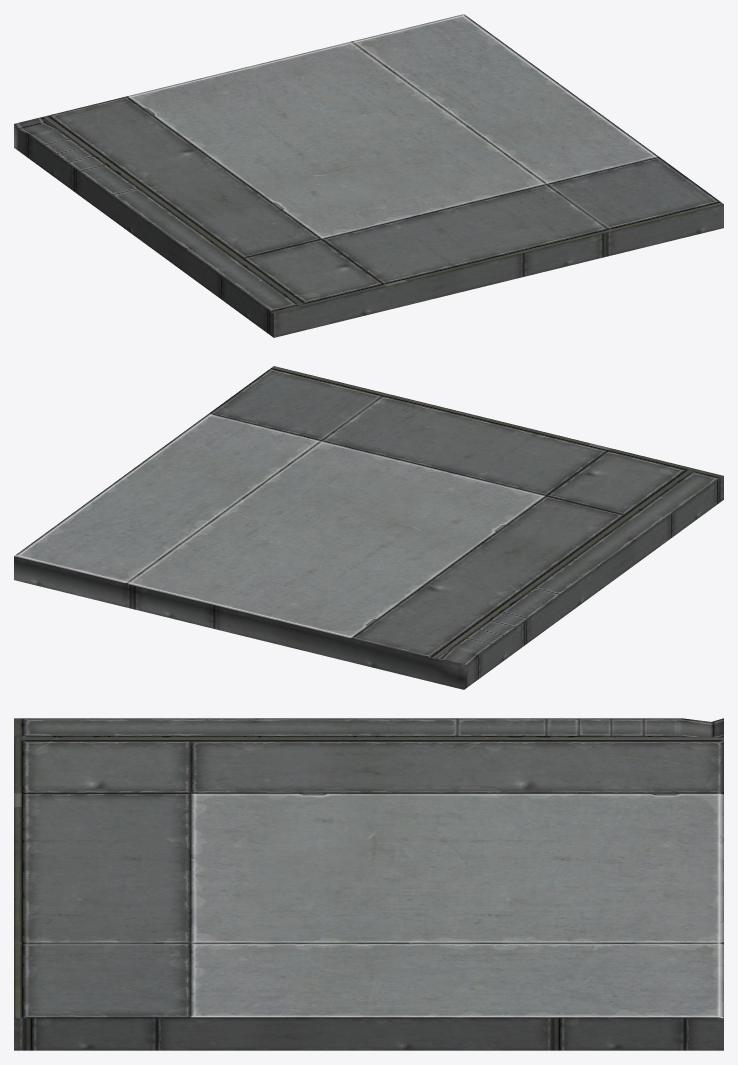
The model's file is Neon_Floor_Lrg_8x4_01.FBX.
3 views of the same model, one above another, from view 1: azimuth 30°, elevation 25°; view 2: azimuth 150°, elevation 25°; view 3: azimuth 270°, elevation 25° (orthographic). The views are drawn at different scales.
Parts seen in each view (by area): view 1: Neon_Floor_Lrg_8x4_02; view 2: Neon_Floor_Lrg_8x4_02; view 3: Neon_Floor_Lrg_8x4_02.
Boxes of the visible parts, bbox=[...] form: Neon_Floor_Lrg_8x4_02: bbox=[14, 14, 723, 337]; Neon_Floor_Lrg_8x4_02: bbox=[14, 366, 723, 689]; Neon_Floor_Lrg_8x4_02: bbox=[14, 718, 723, 1050].
Size of the model in its own units: 400 by 20.24 by 400.
1 material, 1 textured.
